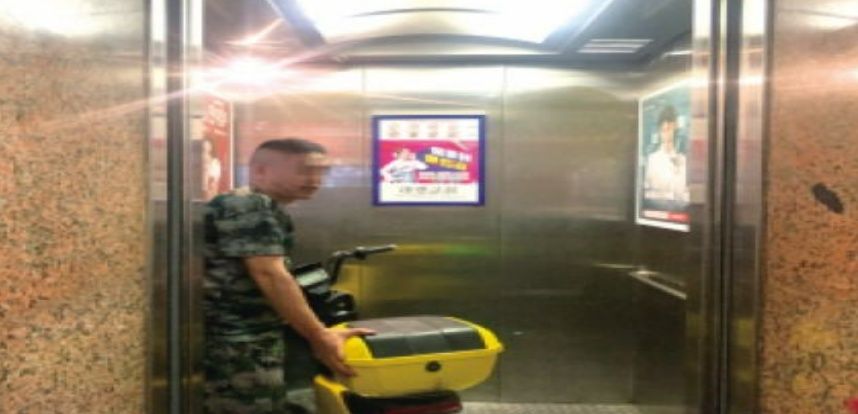ebike: (282, 243, 505, 414)
person: (200, 137, 352, 414)
